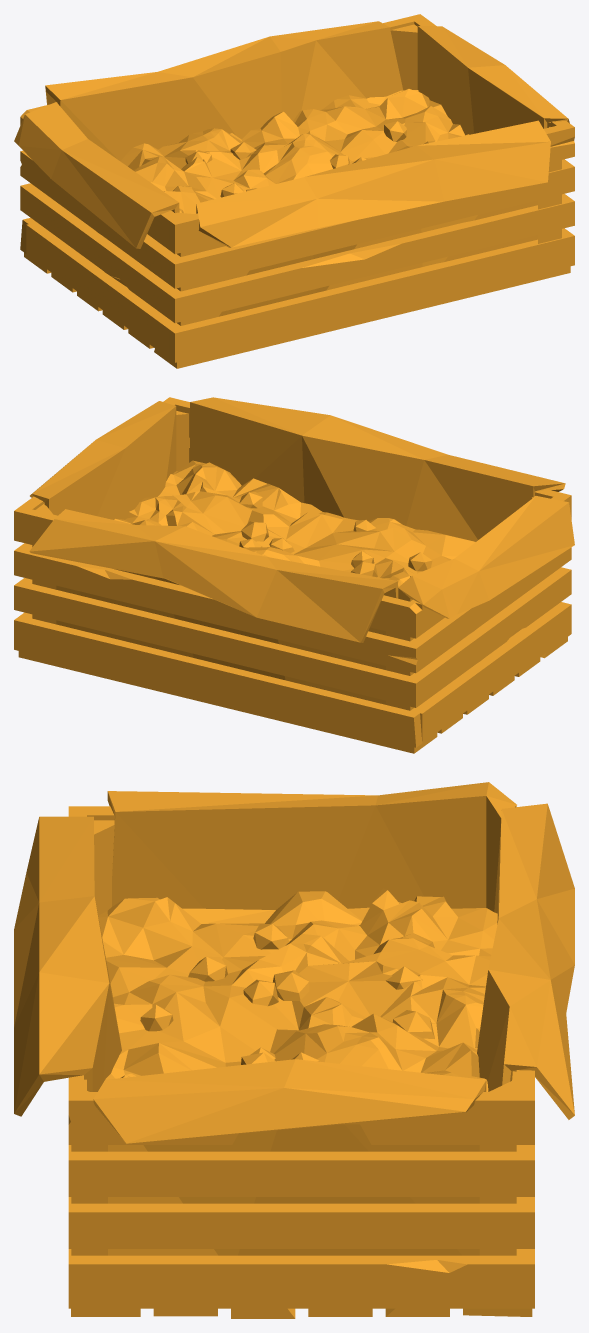
Rendered from SM_Crate_Wood_Medium_Paper_Hazelnuts.fbx.
3 renders of one model, top to bottom at view 1: azimuth 30°, elevation 25°; view 2: azimuth 150°, elevation 25°; view 3: azimuth 270°, elevation 25°, orthographic. The views are drawn at different scales.
Visible parts, largest first — view 1: crate-wood-medium-paper-hazelnuts; view 2: crate-wood-medium-paper-hazelnuts; view 3: crate-wood-medium-paper-hazelnuts.
Boxes of the visible parts, x1,y1,x2,y2 form: crate-wood-medium-paper-hazelnuts: [14, 14, 574, 368]; crate-wood-medium-paper-hazelnuts: [14, 397, 574, 753]; crate-wood-medium-paper-hazelnuts: [14, 782, 574, 1318].
Bounding box in the file's own units: 0.663 × 0.2348 × 0.4887.
